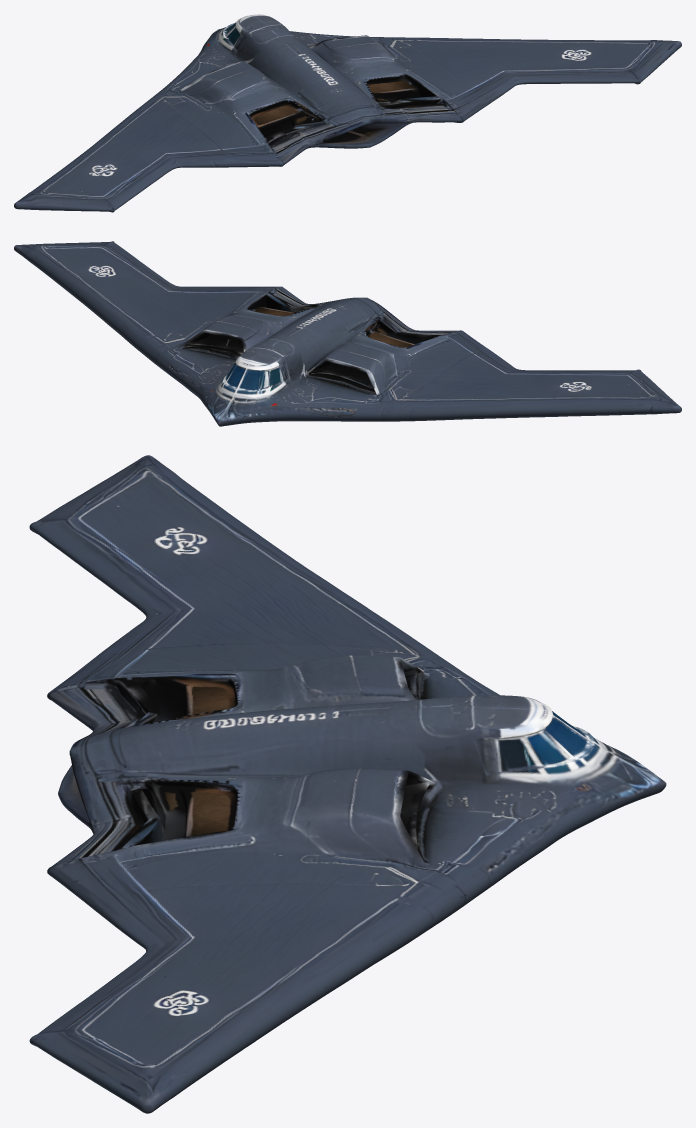
File: northrop-grumman-b-2-spirit.glb
The picture shows the model from 3 angles, top to bottom: view 1: azimuth 30°, elevation 25°; view 2: azimuth 150°, elevation 25°; view 3: azimuth 270°, elevation 25°; orthographic projection. The views are drawn at different scales.
Parts seen in each view (by area): view 1: northrop-grumman-b-2-spirit-airframe; view 2: northrop-grumman-b-2-spirit-airframe; view 3: northrop-grumman-b-2-spirit-airframe.
Part boxes in pixels (box(x1,y1,x2,y2)): northrop-grumman-b-2-spirit-airframe: box(14, 14, 681, 212); northrop-grumman-b-2-spirit-airframe: box(14, 241, 681, 426); northrop-grumman-b-2-spirit-airframe: box(29, 455, 666, 1113).
Bounding box in the file's own units: 52.4 × 4.19 × 21.68.
Materials: 1 (1 with a texture image).
